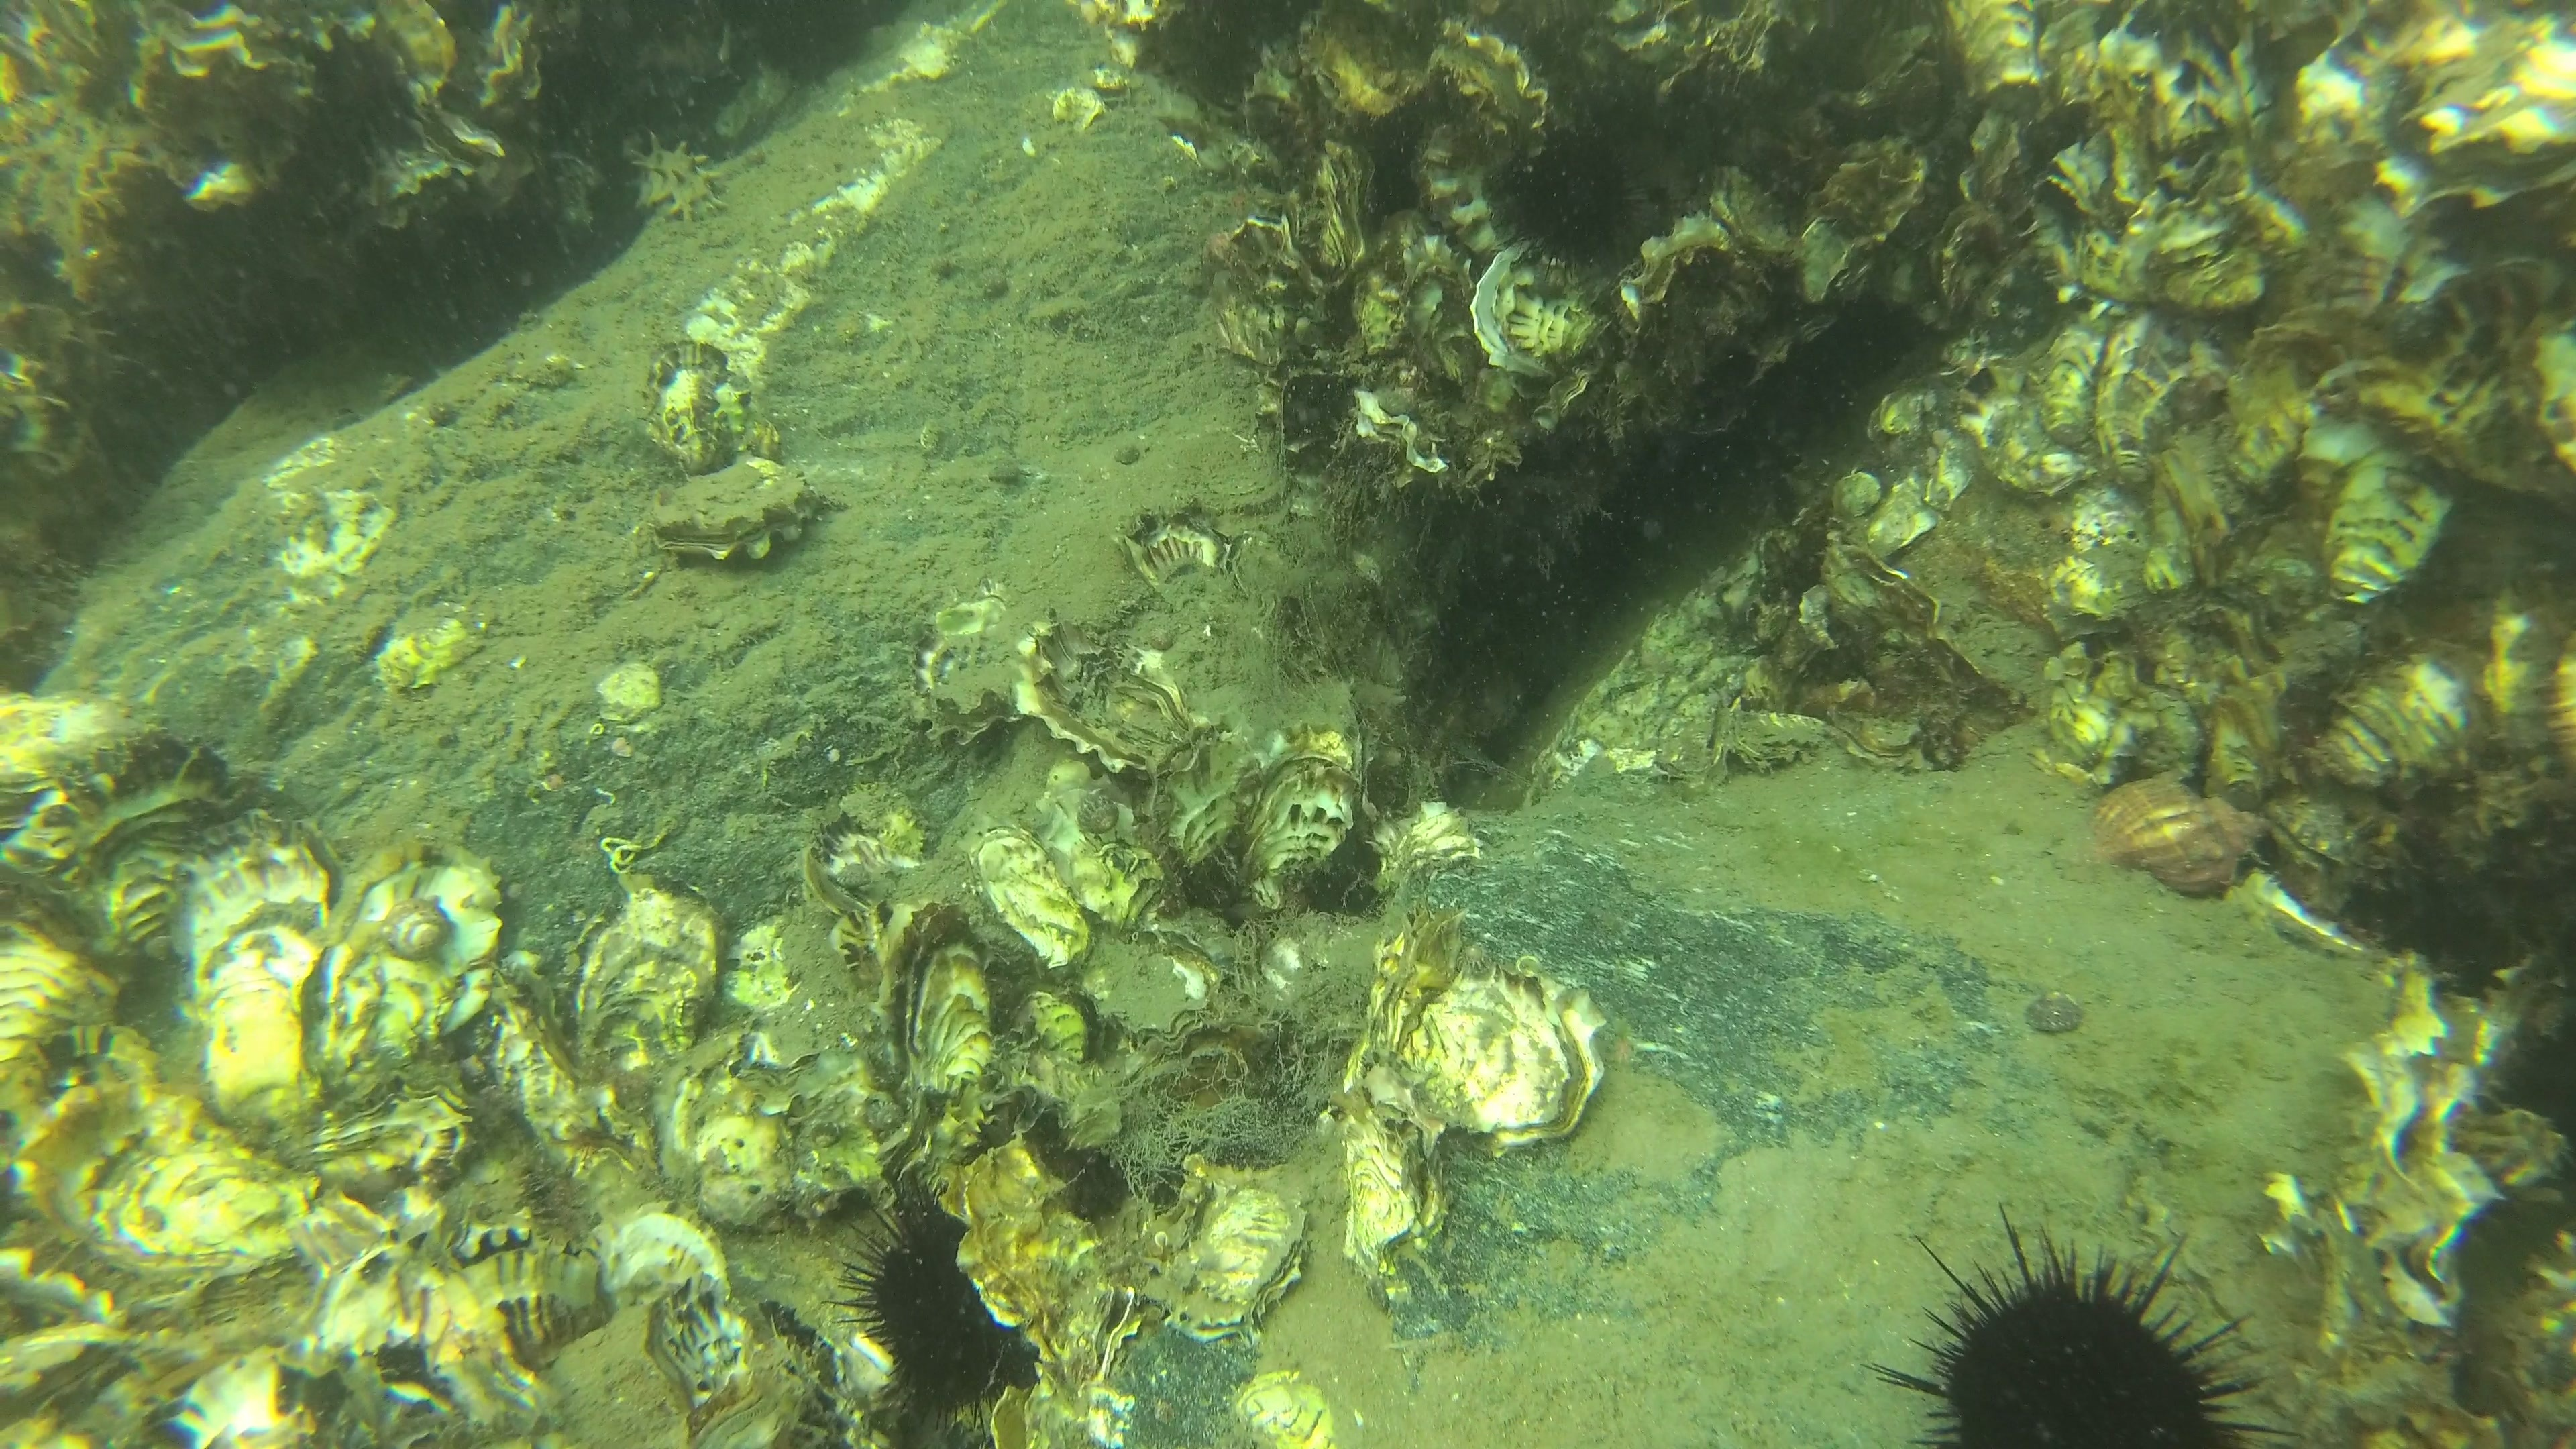echinus: (1872, 1201, 2286, 1447), (837, 1177, 1033, 1424), (1504, 124, 1638, 269)
holothurian: (621, 133, 729, 225)
